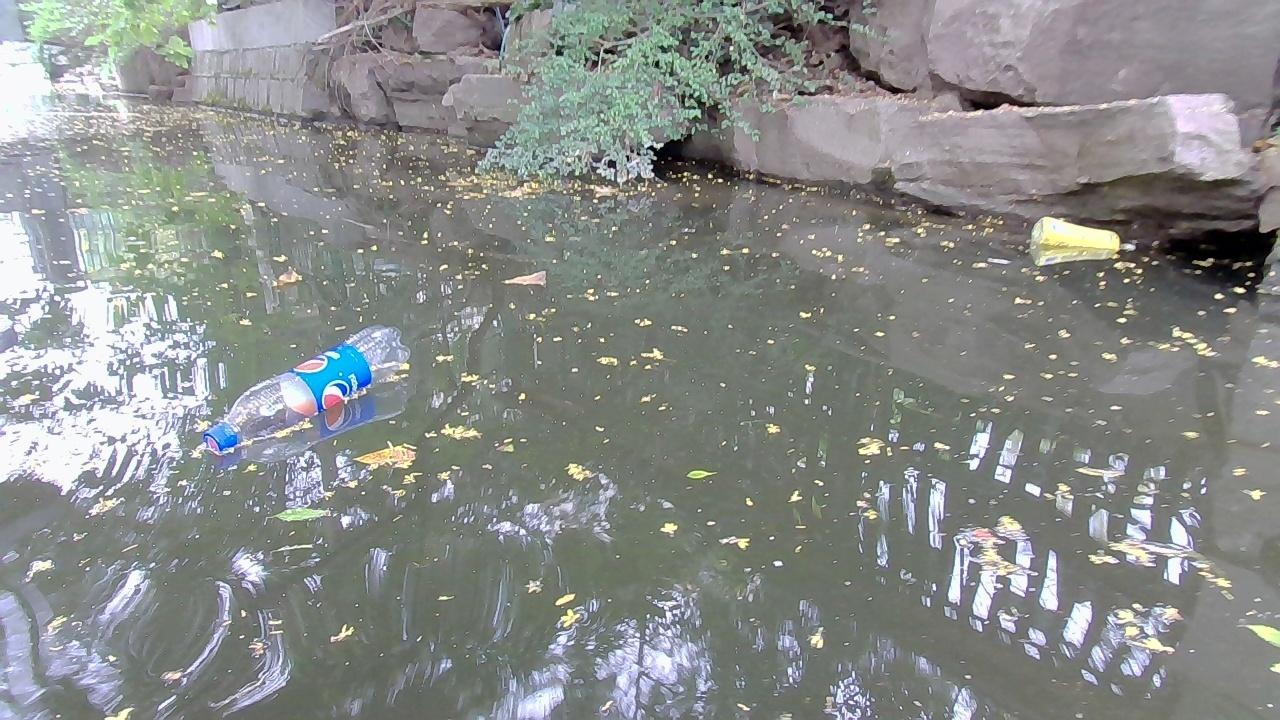bottle: (198, 318, 417, 456), (1026, 211, 1140, 250)
